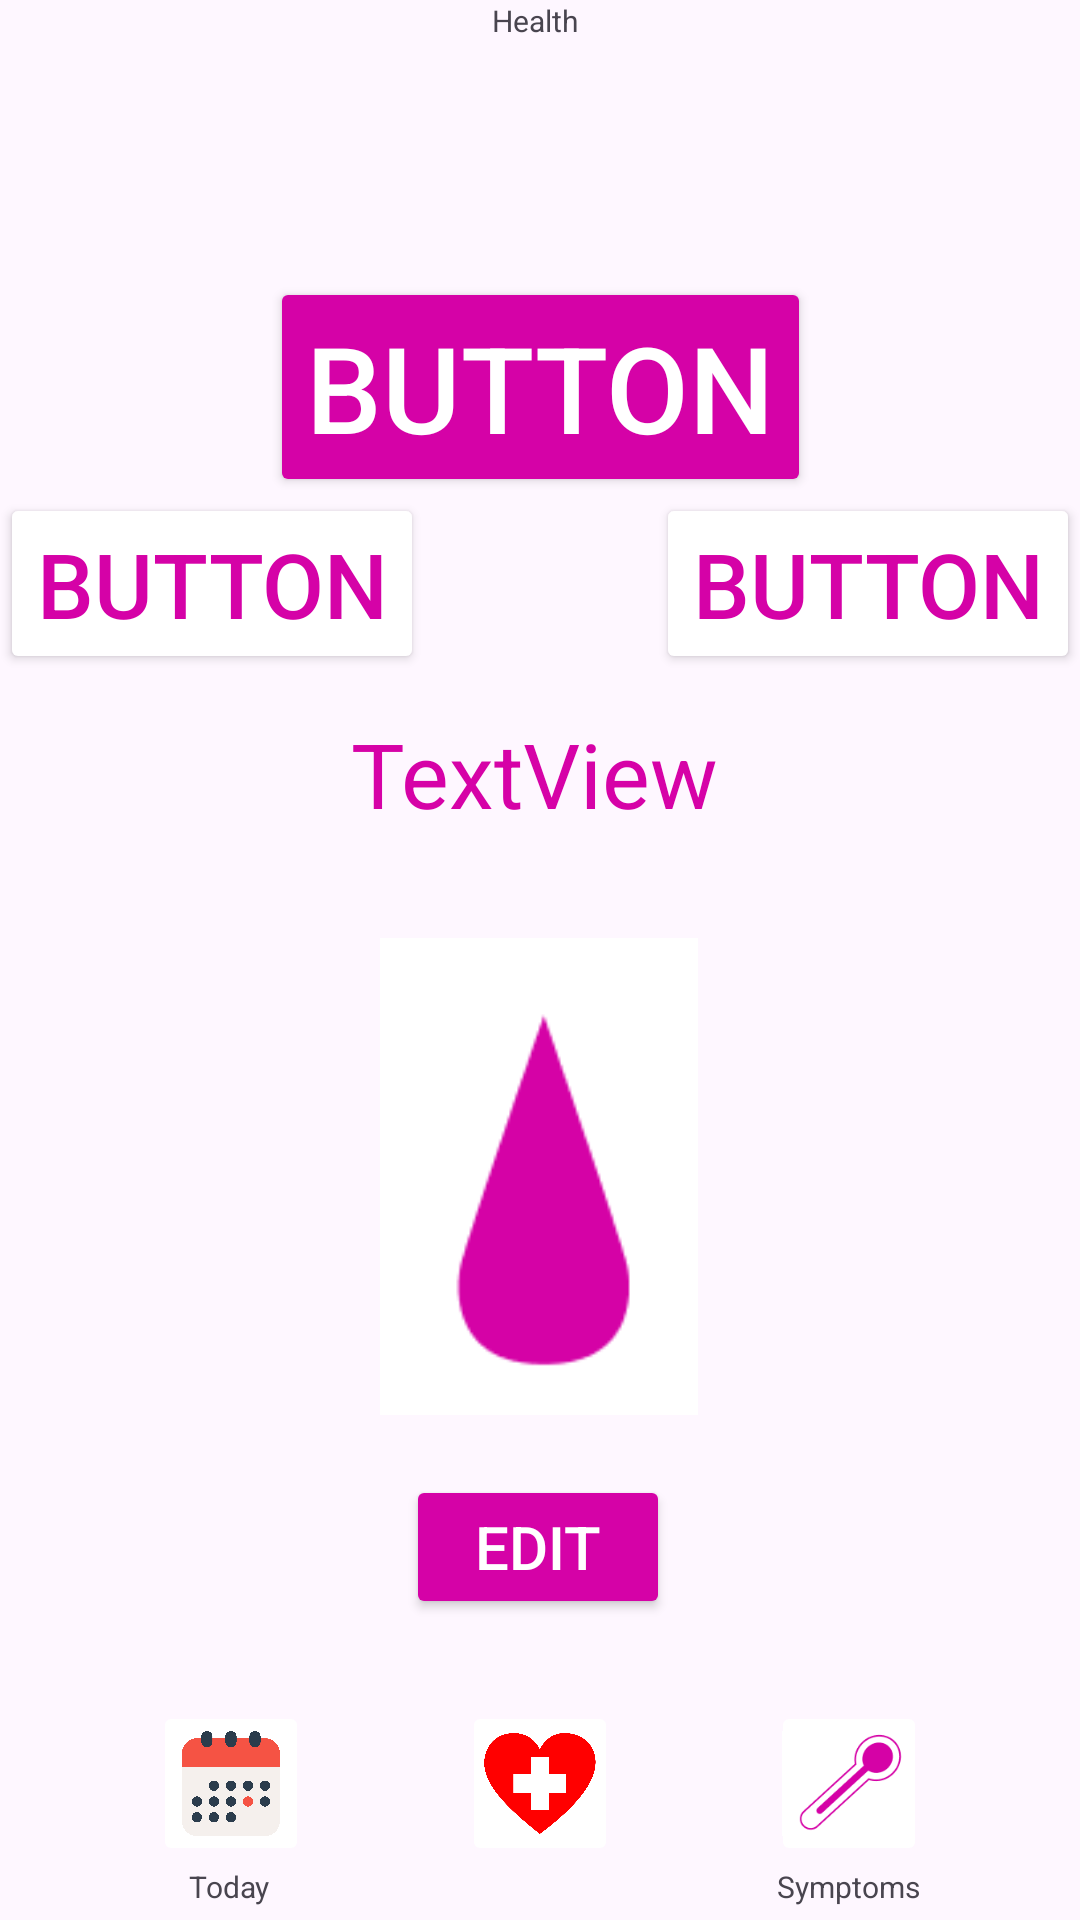

Icon bounding boxes for this 1080px×1920px phone screenshot, format (x1, y1, x2, y2):
calendar: (182, 1731, 280, 1836)
droplet: (456, 1016, 630, 1366)
heart: (484, 1733, 596, 1834)
thermometer: (800, 1735, 902, 1830)
